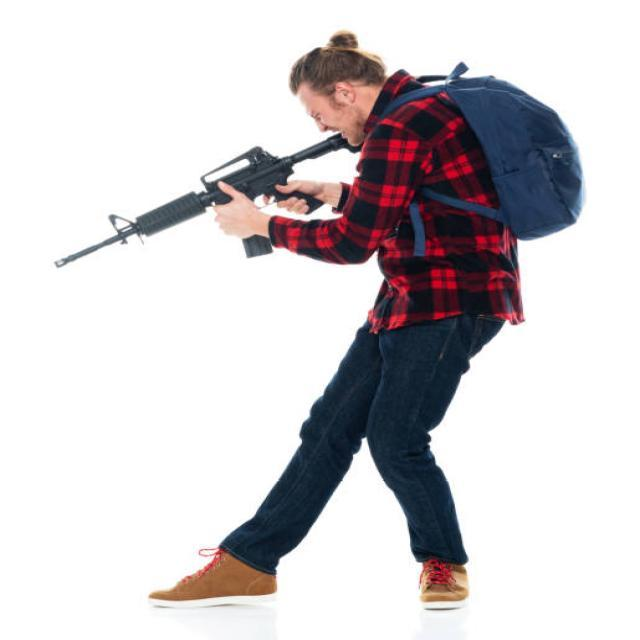Rifle: (51, 111, 412, 286)
